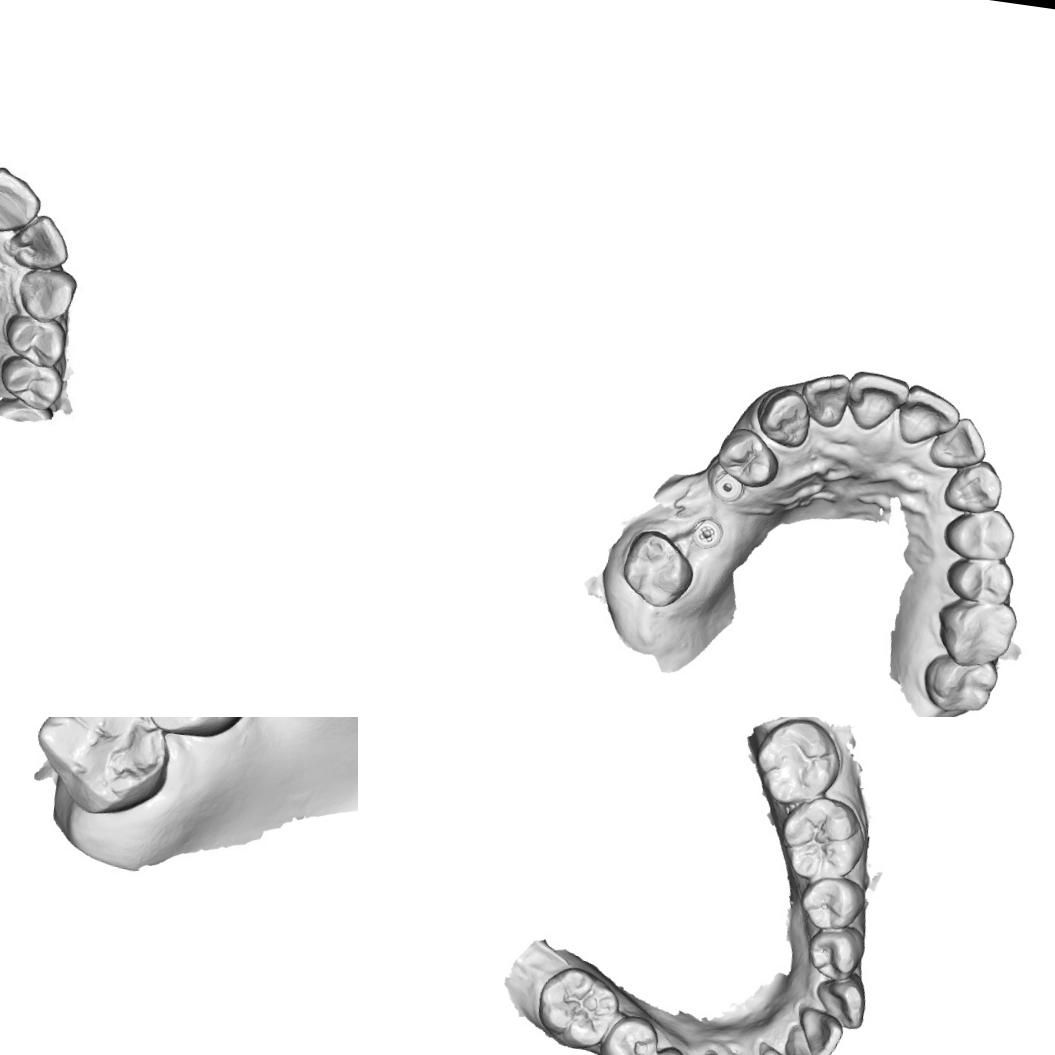canine: (12, 264, 81, 326), (941, 455, 1007, 519), (752, 383, 814, 451), (812, 972, 872, 1034)
implant: (710, 468, 747, 505)
implant_plus: (684, 505, 736, 557)
incisor: (842, 367, 912, 439), (895, 382, 964, 452), (2, 208, 75, 274), (926, 412, 991, 474), (796, 368, 854, 430), (0, 163, 46, 238), (795, 1009, 849, 1055), (780, 1041, 838, 1055)
molar: (28, 717, 183, 824), (753, 719, 846, 810), (778, 795, 868, 886), (533, 964, 621, 1053), (929, 593, 1020, 673), (618, 526, 700, 613), (918, 648, 998, 717)
premolar: (938, 501, 1020, 566), (714, 425, 784, 491), (942, 551, 1017, 608), (0, 312, 71, 371), (0, 355, 67, 415), (796, 875, 862, 931), (810, 924, 864, 980), (603, 1010, 663, 1055)
